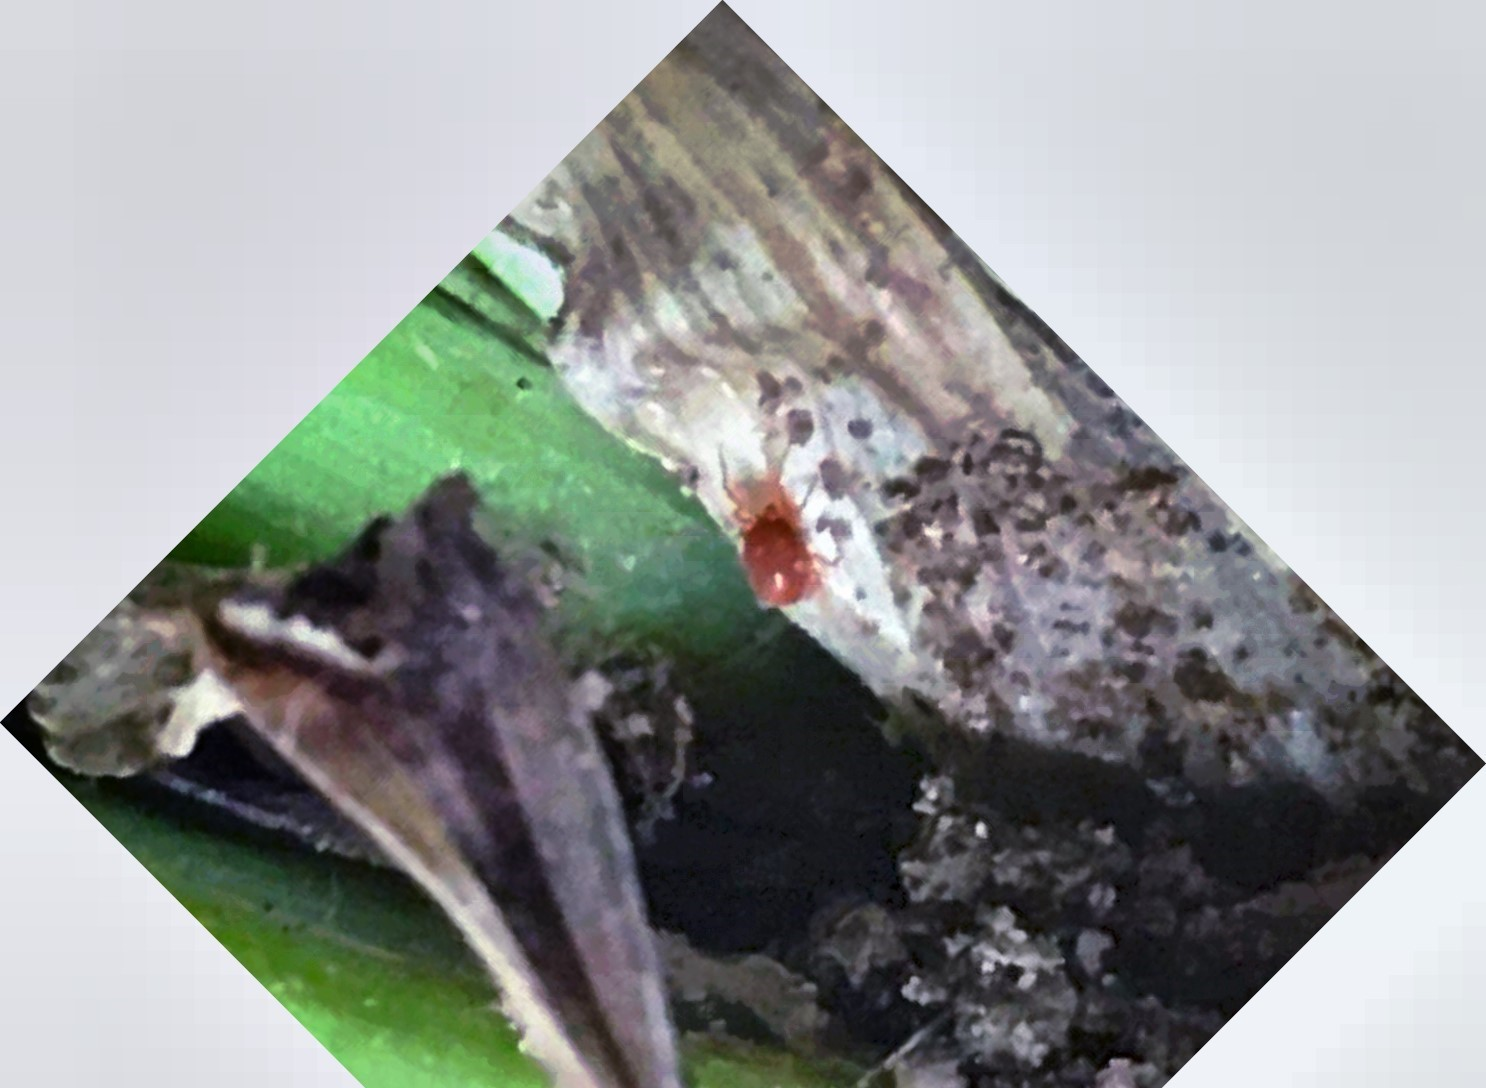Wheat Red Spider: (704, 436, 851, 625)
